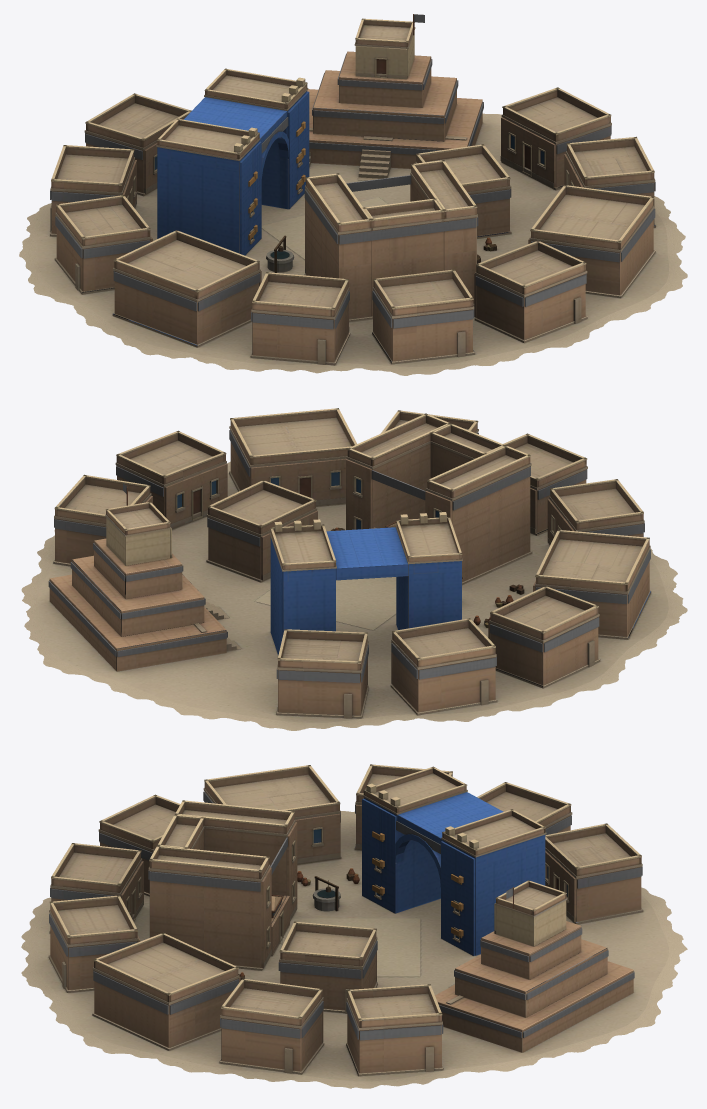
The model's file is bronze-town-medium-b-levant.glb.
3 views of the same model, one above another, from view 1: azimuth 30°, elevation 25°; view 2: azimuth 150°, elevation 25°; view 3: azimuth 270°, elevation 25° (orthographic).
Visible parts, largest first — view 1: LOD0; view 2: LOD0; view 3: LOD0.
Part boxes in pixels (x1,y1,x2,y2): LOD0: (19, 14, 687, 375); LOD0: (21, 408, 687, 730); LOD0: (21, 764, 687, 1088).
Size of what is drawn, in the model's own units: 5.97 by 1.28 by 5.92.
3 materials, 3 textured.
